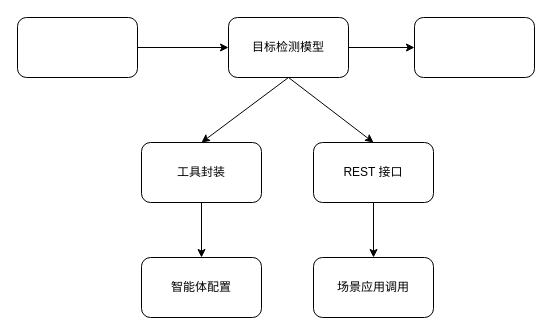
This 552x335 diagram has some shape labels left out. The shapes that lost their labels are listed below. From the top down, each one's centre as x and y in pixels, then its label:
At pixel 77 47: "实时图像".
At pixel 474 47: "目标检测".
